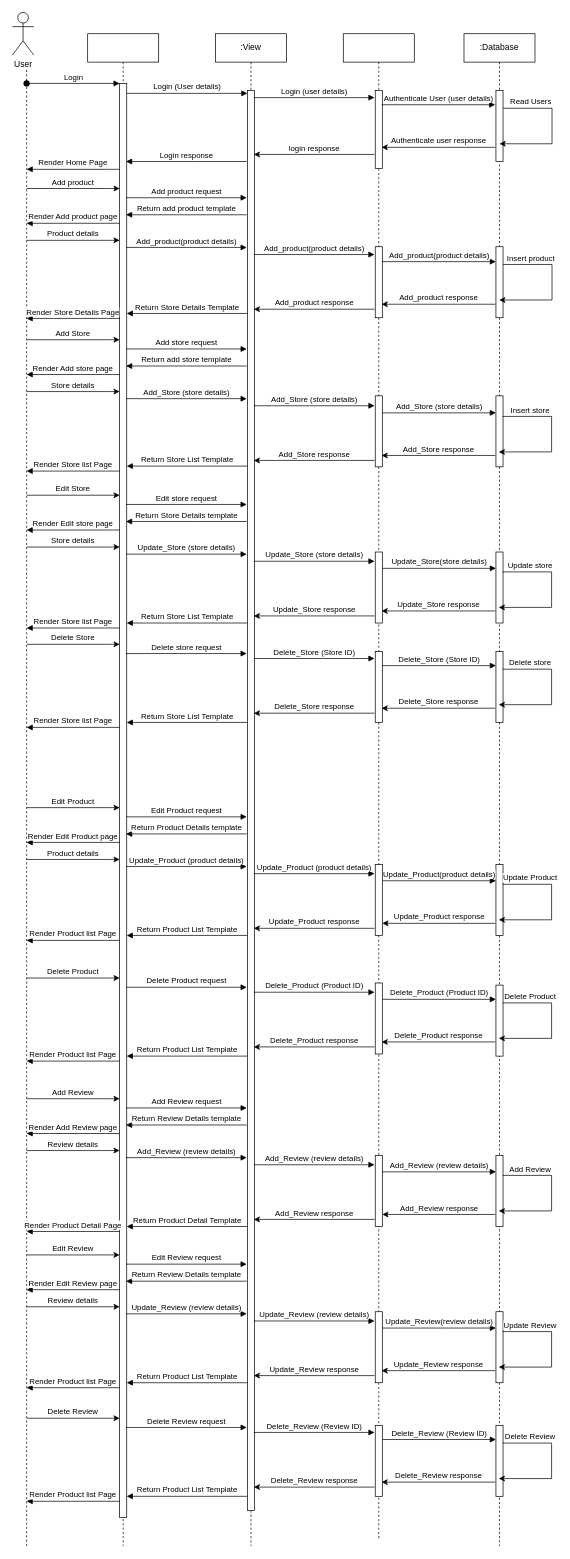
Image size: 570x1559. Some labels were removed from this diagram. Each missing label, with the box of its shape:
:Model: (343, 33, 414, 1539)
:Template: (87, 33, 159, 1546)
